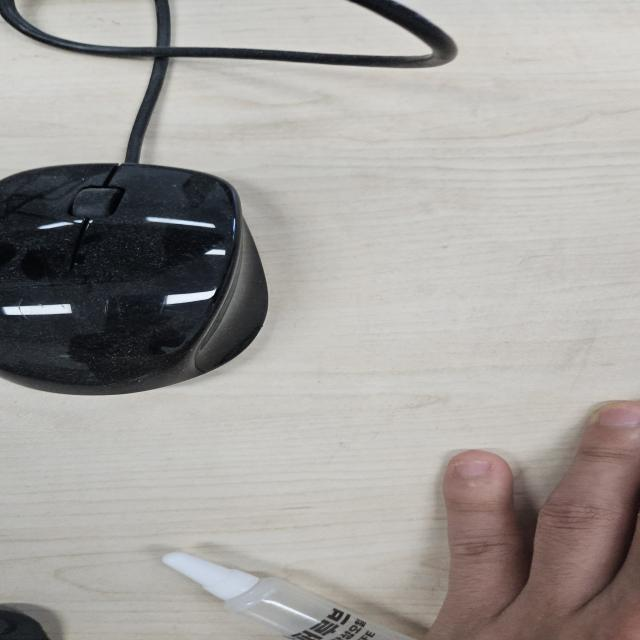Mouse: (2, 160, 272, 396)
